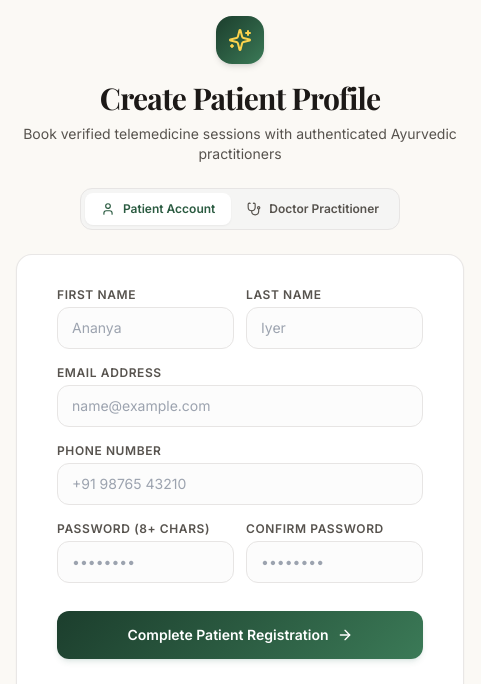
Test case: Frontend Authentication Tests › validates password mismatch during patient registration
The width and height of the screenshot is (481, 684).
Type "Aarav" into the field with placeholder "Ananya" at (146, 328), box [57,307,234,349]
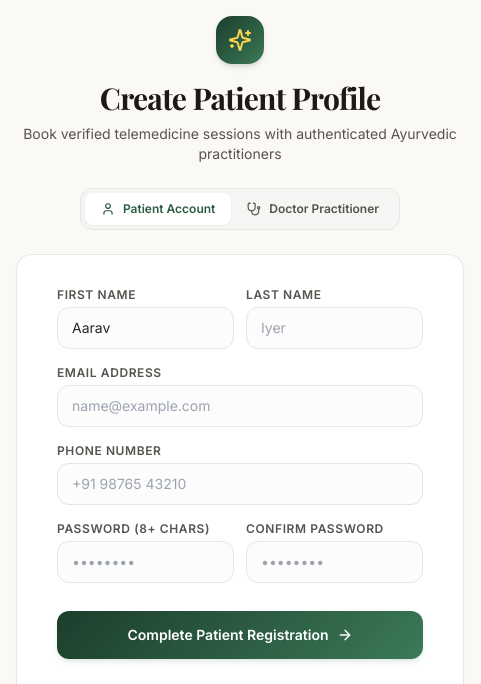
Type "Kumar" into the field with placeholder "Iyer" at (334, 328), box [246,307,423,349]
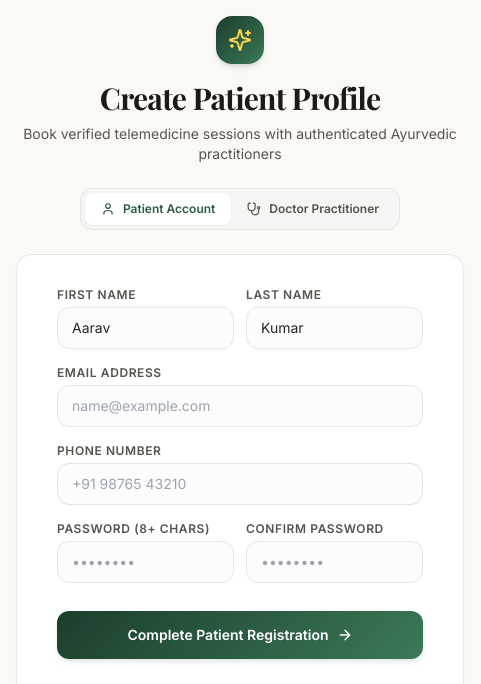
Type "patient@example.com" into the field with placeholder "name@example.com" at (240, 406), box [57,385,423,427]
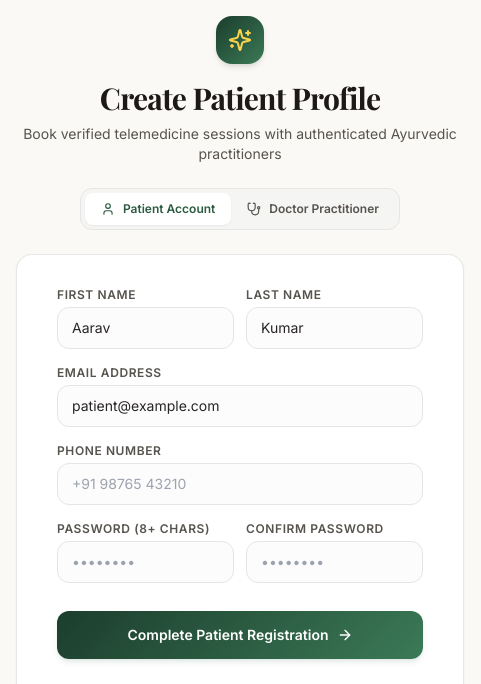
Type "Password123!" into the password field with placeholder "••••••••" below "Password (8+ chars)" at (146, 562), box [57,541,234,583]
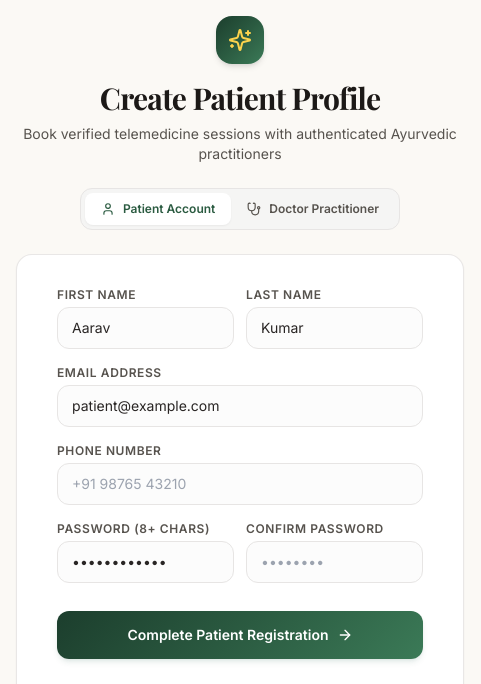
Type "DifferentPass123!" into the password field with placeholder "••••••••" at (334, 562), box [246,541,423,583]
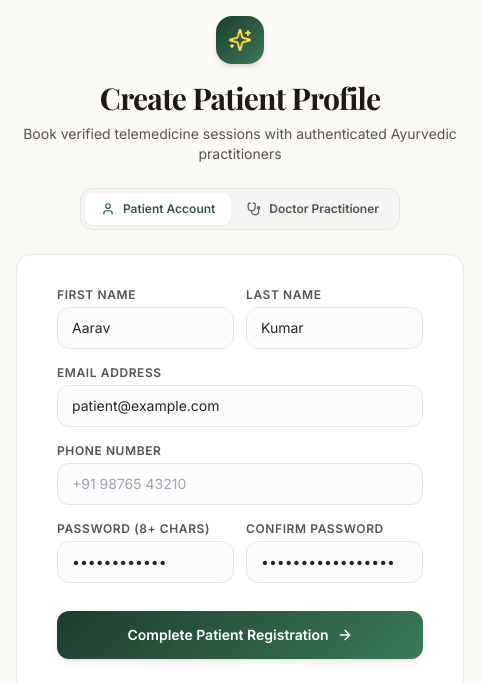
Click the button "Complete Patient Registration" at (240, 635), box [57,611,423,659]
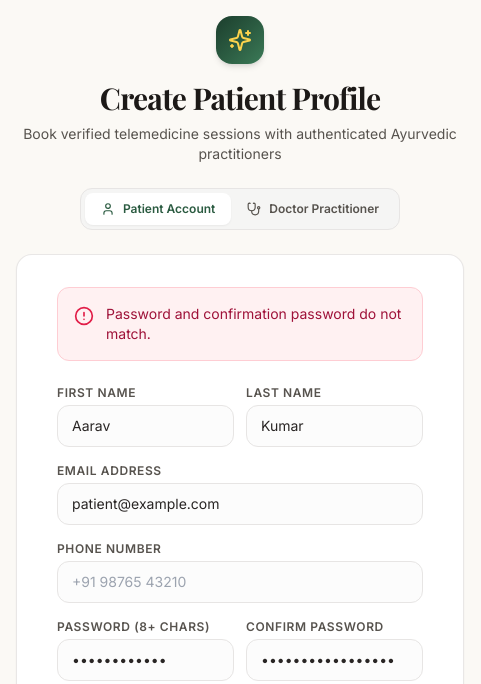
Expected: the text "Password and confirmation password do not match." is shown, [106,304,406,344]
